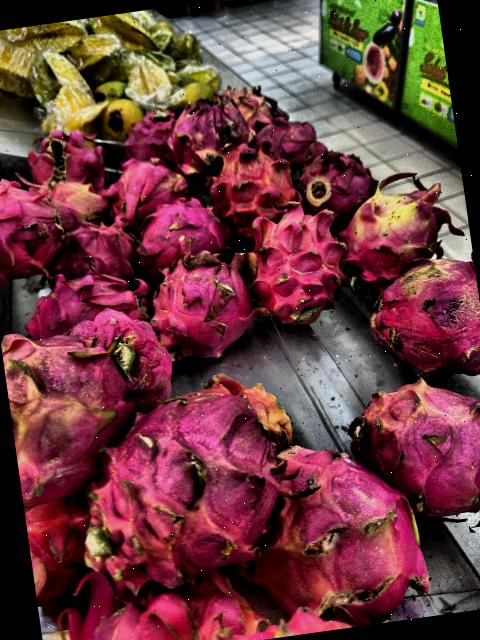buah-naga-belum-matang: (259, 440, 429, 619), (333, 358, 480, 555), (0, 315, 140, 477), (353, 241, 480, 389), (338, 176, 466, 282), (204, 137, 302, 230), (42, 168, 108, 224), (222, 78, 276, 130)
buah-naga-matang: (83, 372, 298, 581), (53, 546, 252, 640), (140, 252, 274, 363), (61, 298, 184, 408), (240, 207, 348, 321), (26, 268, 146, 337), (0, 175, 65, 282), (52, 219, 145, 289), (96, 154, 193, 220), (296, 149, 384, 219), (159, 98, 238, 170), (131, 198, 222, 258), (23, 130, 111, 189), (111, 108, 177, 166), (244, 114, 312, 168)
